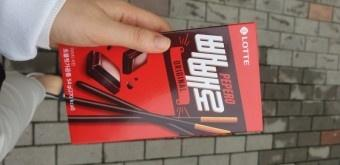snack: (58, 21, 264, 145)
